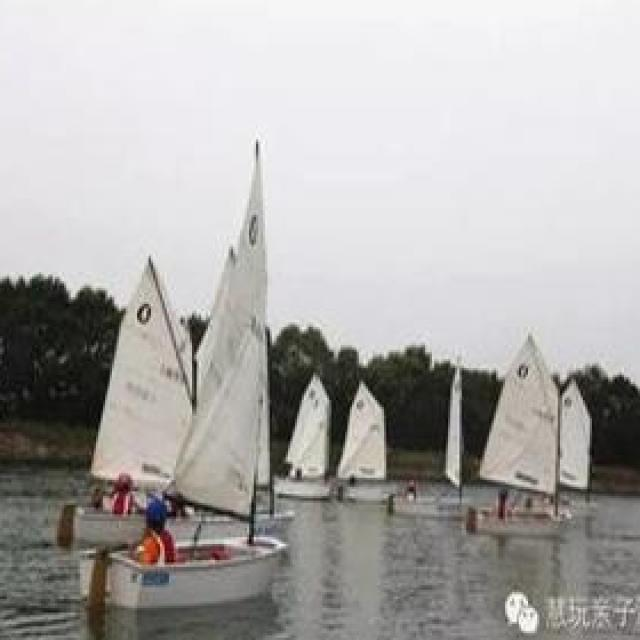sailboat: (76, 138, 280, 624), (52, 254, 198, 552), (471, 331, 557, 544), (328, 376, 405, 516), (411, 355, 475, 519), (266, 361, 334, 498), (550, 375, 606, 527)
